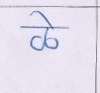e_matra: (31, 11, 54, 26)
